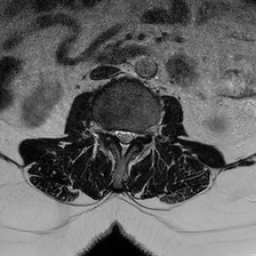CCS_normal: (121, 124, 128, 162)
LFS_severe_stenosis: (137, 124, 144, 147)
LLS_stenosis: (128, 125, 136, 148)
RFS_severe_stenosis: (105, 122, 113, 142)
RLS_stenosis: (114, 124, 121, 145)
